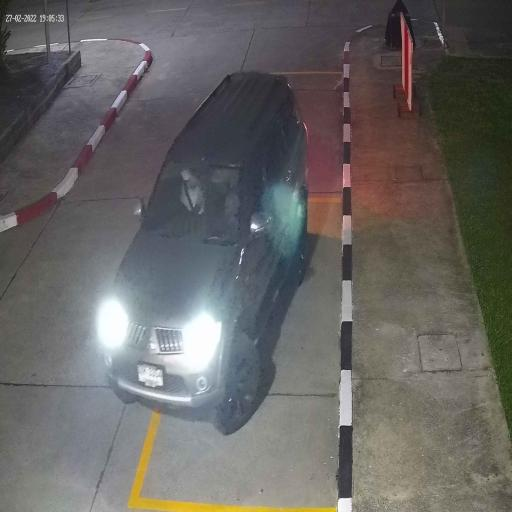car: (103, 70, 309, 434)
